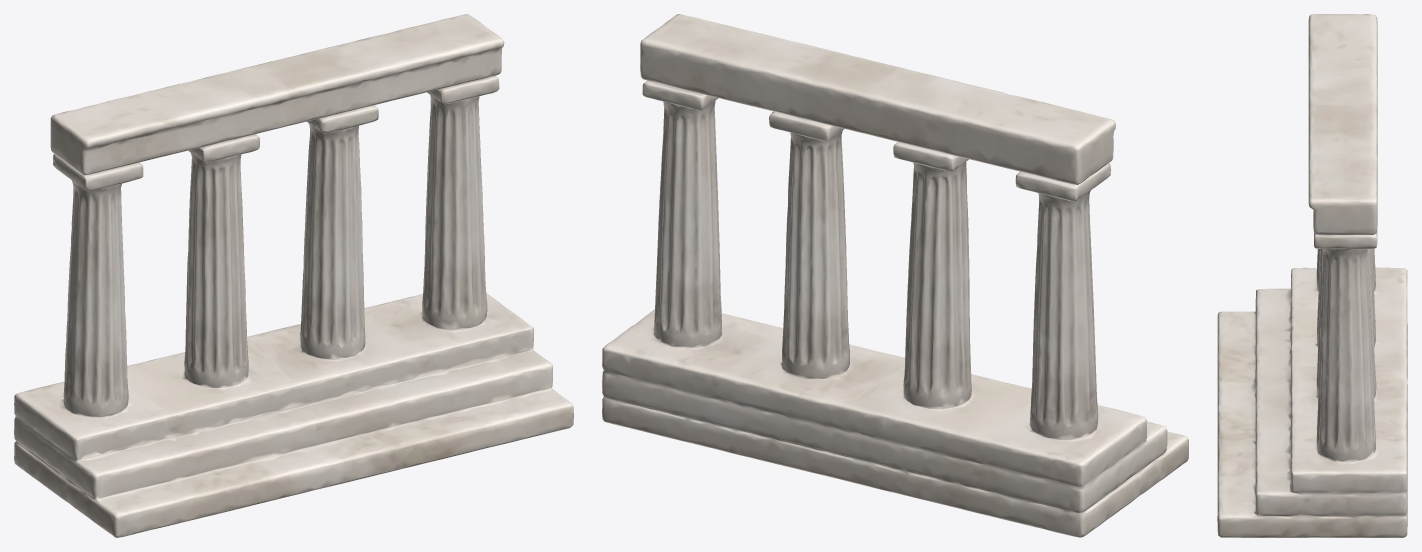
The model's file is porch_doric.glb.
3 renders of one model, left to right at view 1: azimuth 30°, elevation 25°; view 2: azimuth 150°, elevation 25°; view 3: azimuth 270°, elevation 25°, orthographic. The views are drawn at different scales.
Parts seen in each view (by area): view 1: geometry_0; view 2: geometry_0; view 3: geometry_0.
Boxes of the visible parts, box(x1,y1,x2,y2) form: geometry_0: box(14, 14, 573, 537); geometry_0: box(602, 14, 1188, 537); geometry_0: box(1217, 14, 1407, 537).
Size of the model in its own units: 1 by 0.7454 by 0.3897.
1 material, 1 textured.
